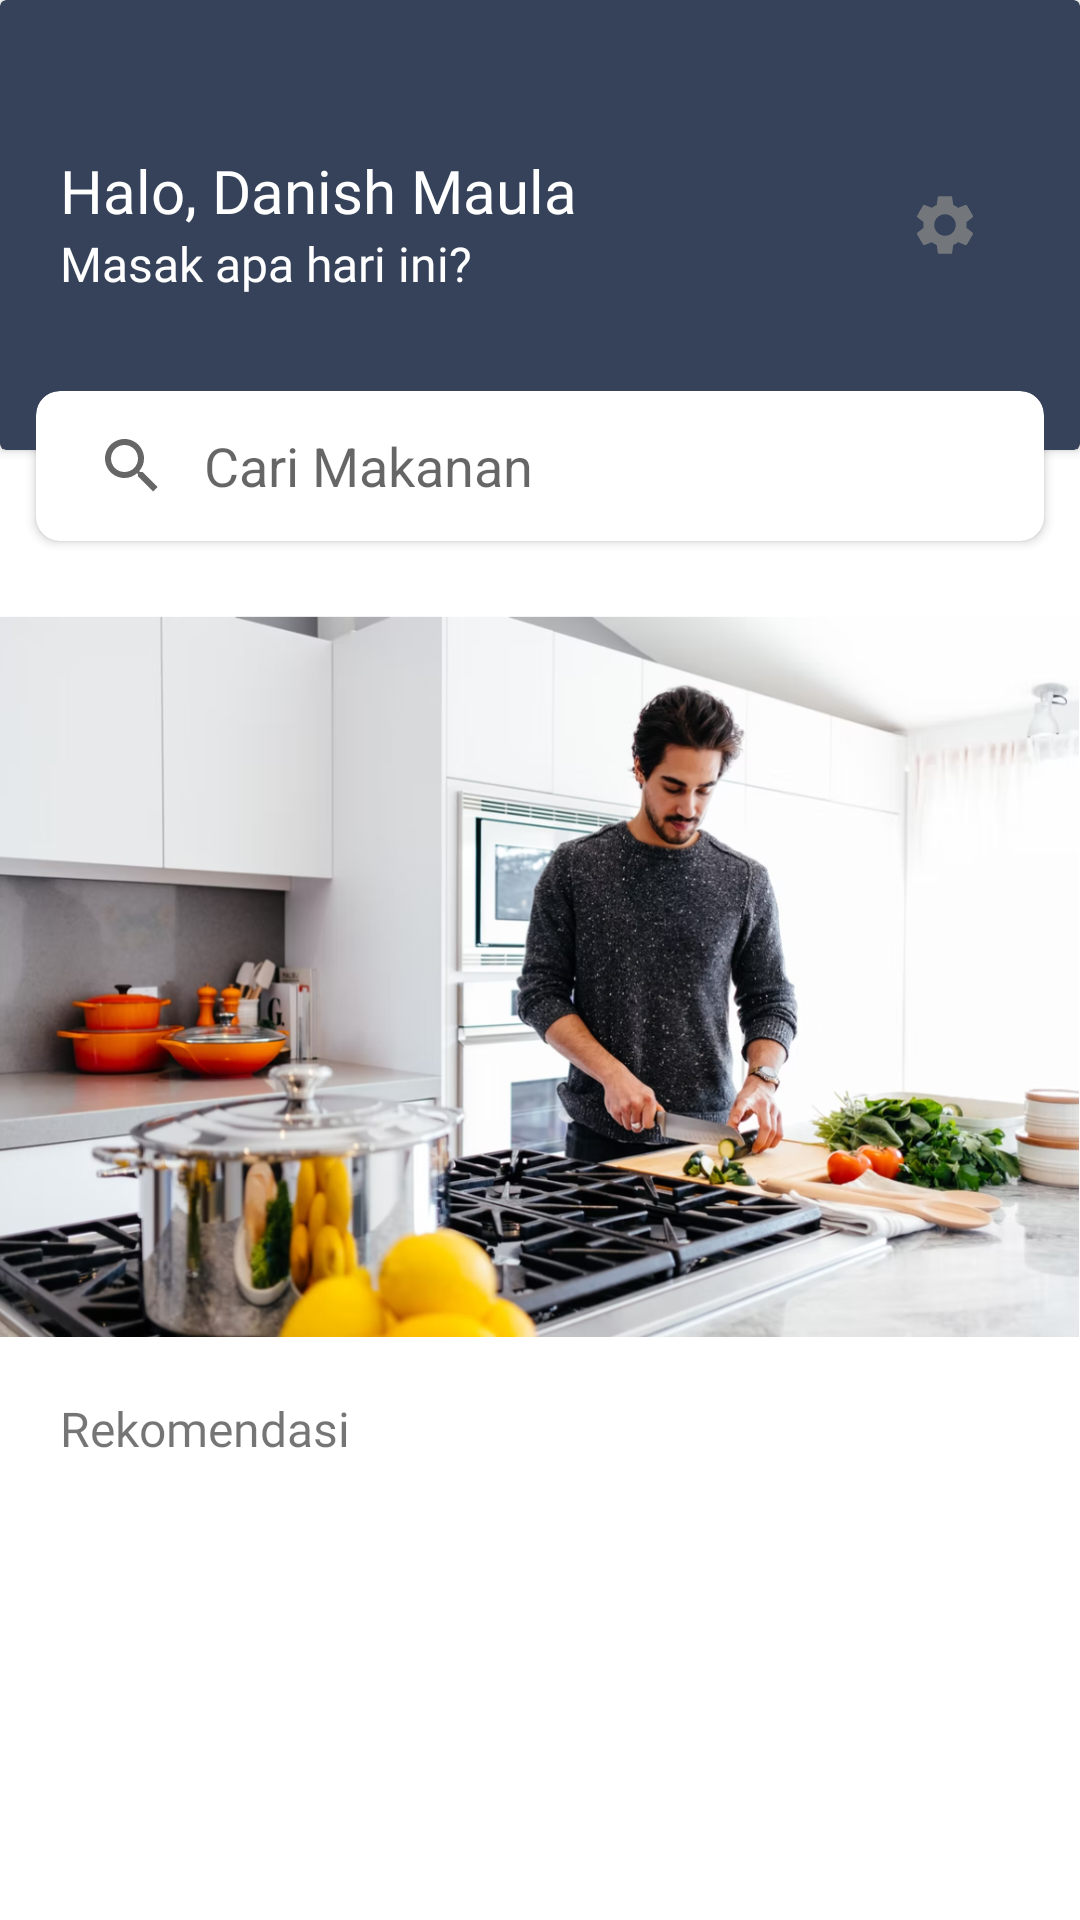

Where to tap for icons on this 1080 x 1920 app screen, as [x,y]:
settings: [945,225]
